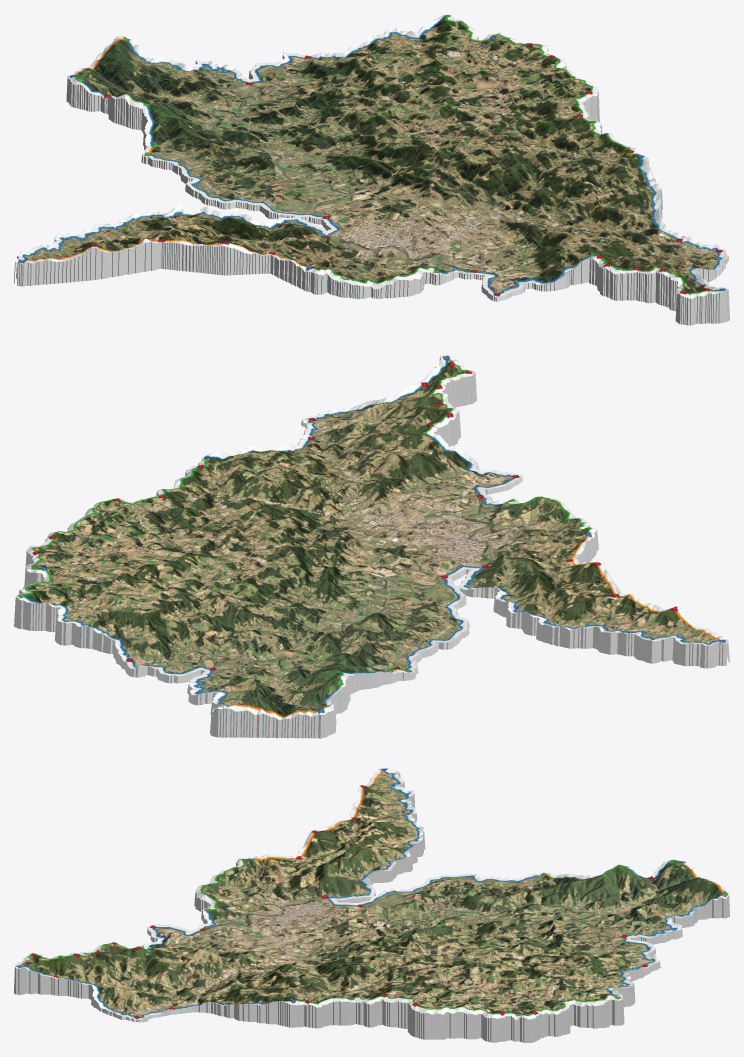
3 views of the same model, one above another, from view 1: azimuth 30°, elevation 25°; view 2: azimuth 150°, elevation 25°; view 3: azimuth 270°, elevation 25° (orthographic). The views are drawn at different scales.
Size of the model in its own units: 1 by 0.0536 by 1.18.
Materials: 1 (1 with a texture image).
